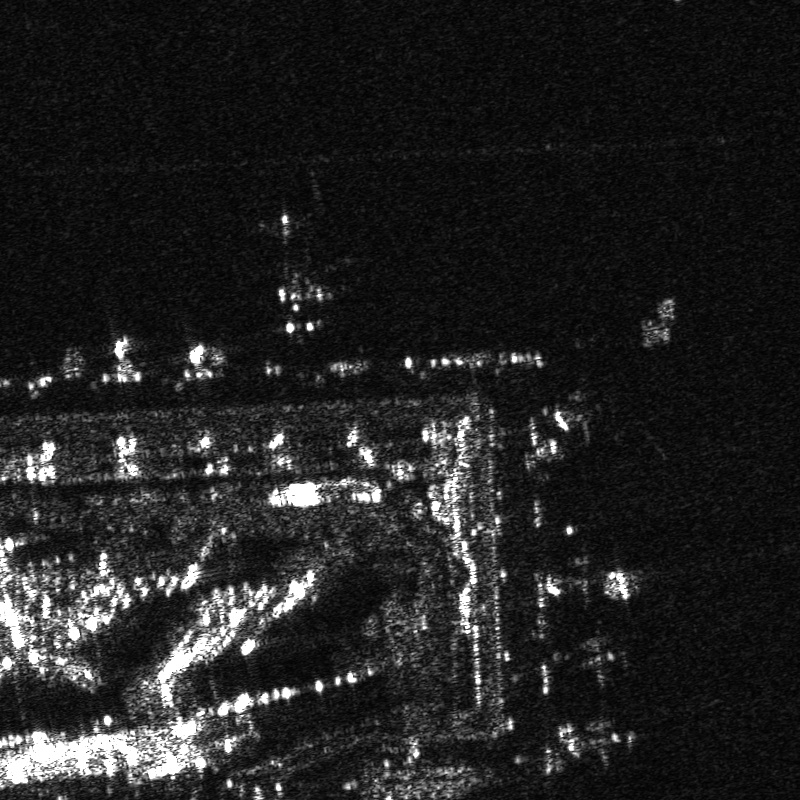A220: (537, 543, 652, 621), (552, 708, 648, 776), (540, 381, 622, 450), (558, 629, 637, 694)
Boeing787: (262, 268, 343, 349)
